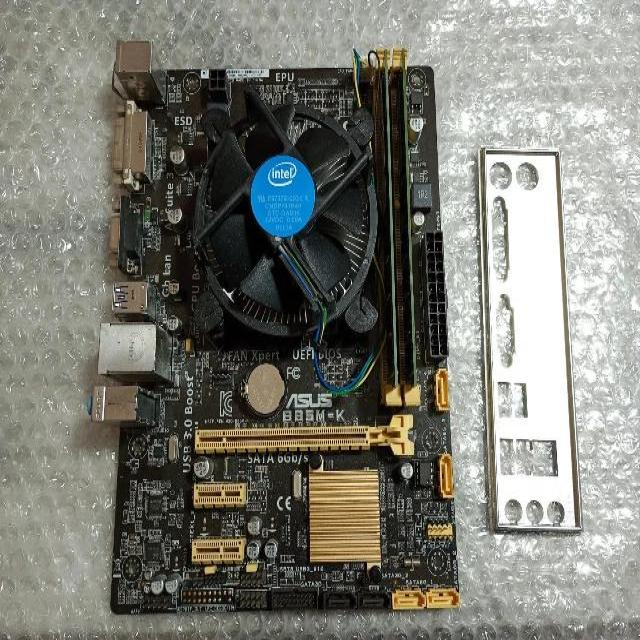CPU_Fan: (192, 84, 380, 339)
